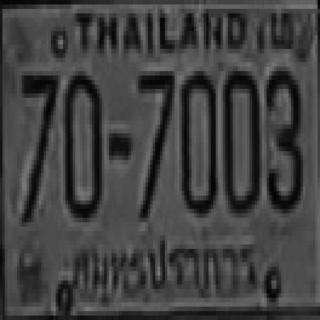N00: (63, 67, 99, 218), (179, 67, 216, 213), (222, 67, 258, 209)
N03: (264, 62, 301, 209)
N07: (19, 71, 56, 218), (136, 67, 172, 218)
P57: (73, 238, 263, 299)
